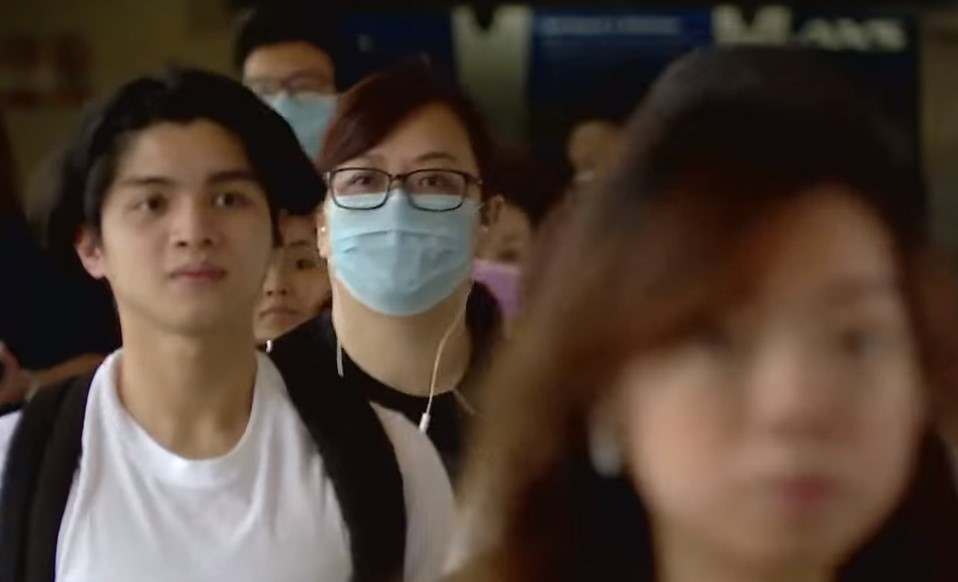face_no_mask: (583, 67, 945, 575), (69, 80, 288, 337), (250, 202, 329, 350)
face_with_mask: (314, 88, 505, 326), (236, 39, 338, 154), (472, 196, 529, 313)
